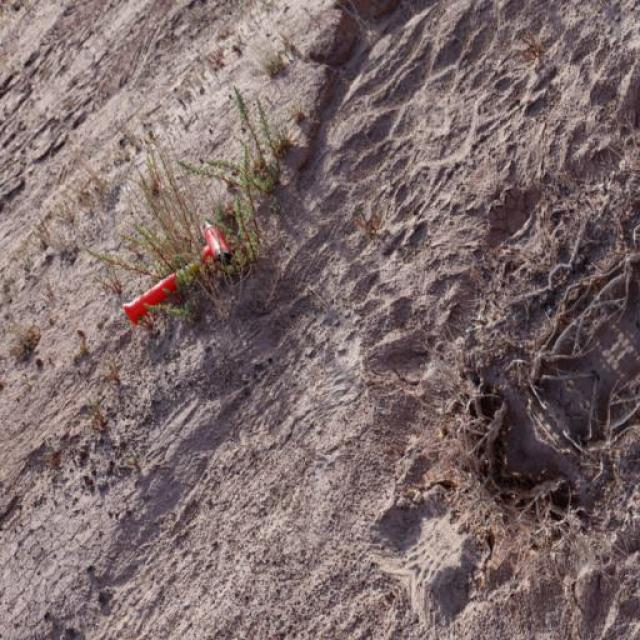mallet: (120, 220, 234, 325)
